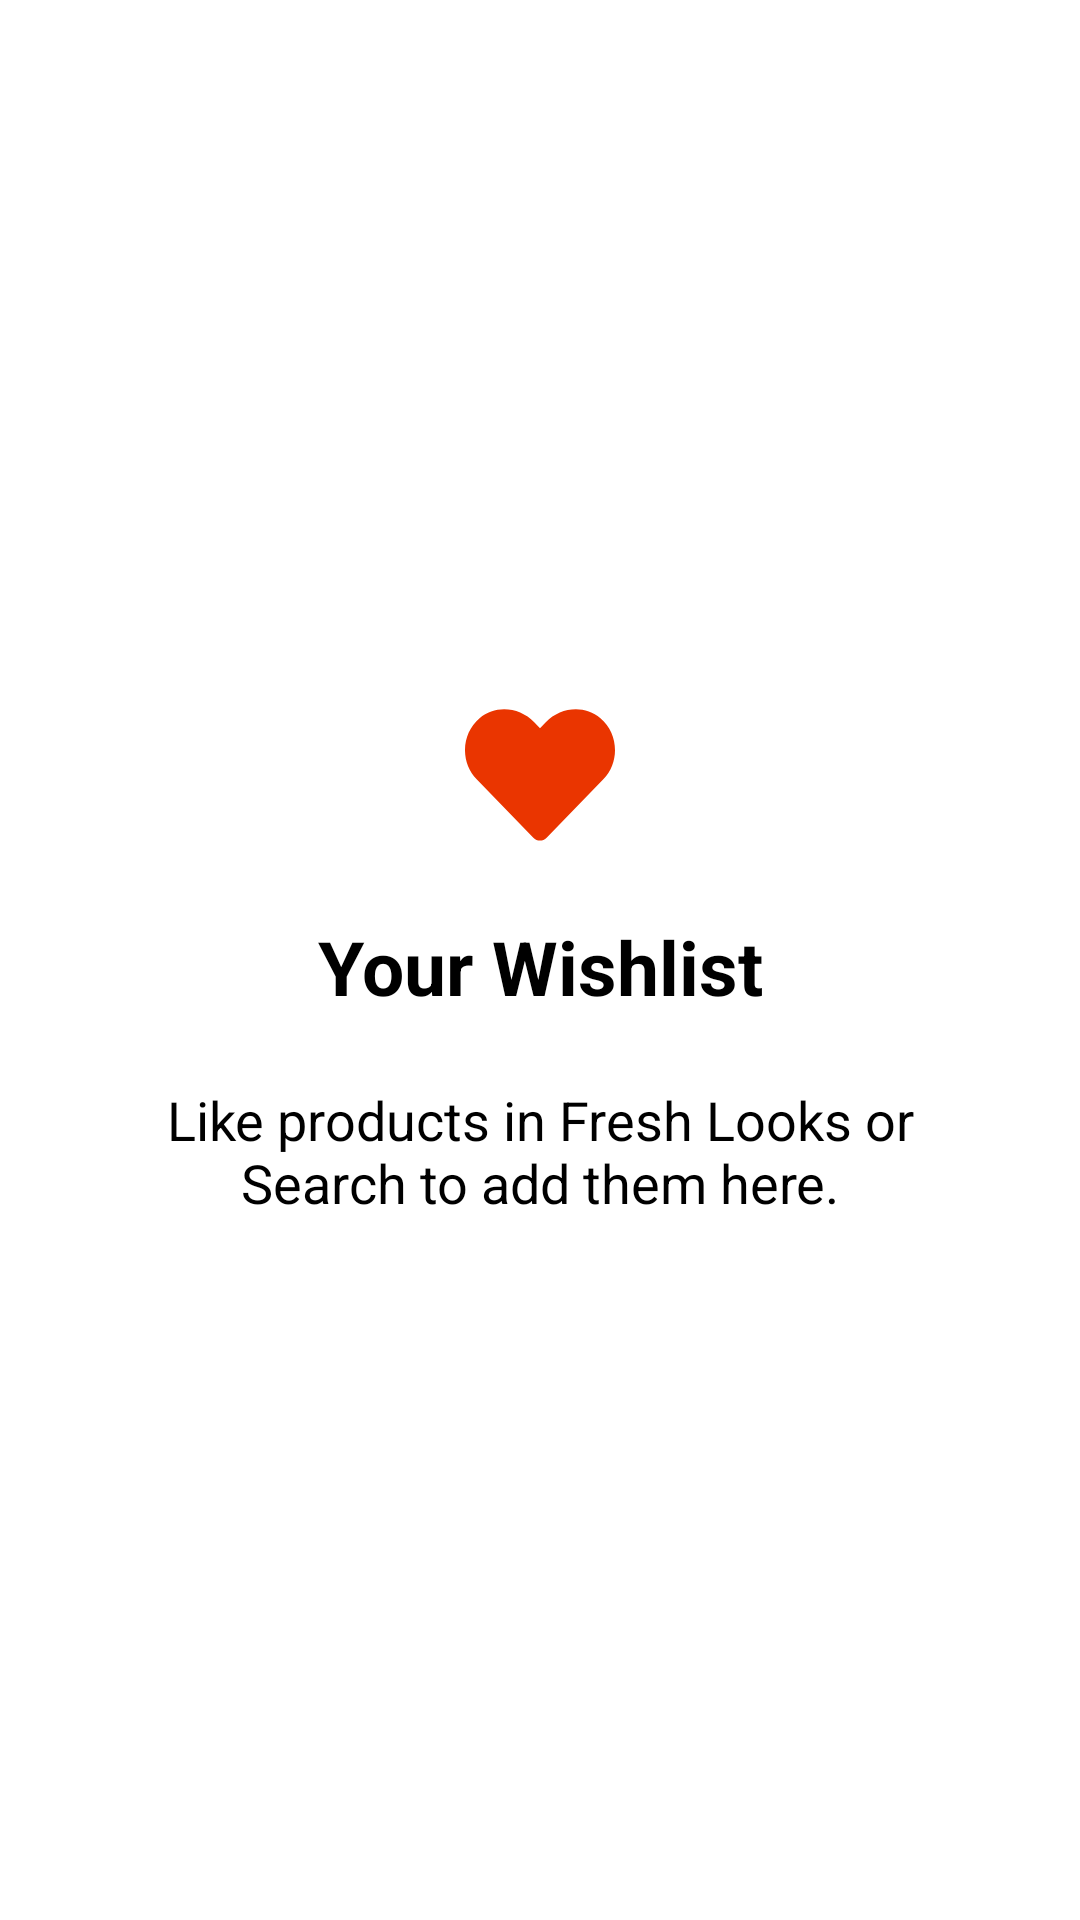

Icons on this 1080px×1920px Android screen, each with its box as (x1, y1, x2, y2):
favorite heart: (465, 709, 615, 841)
